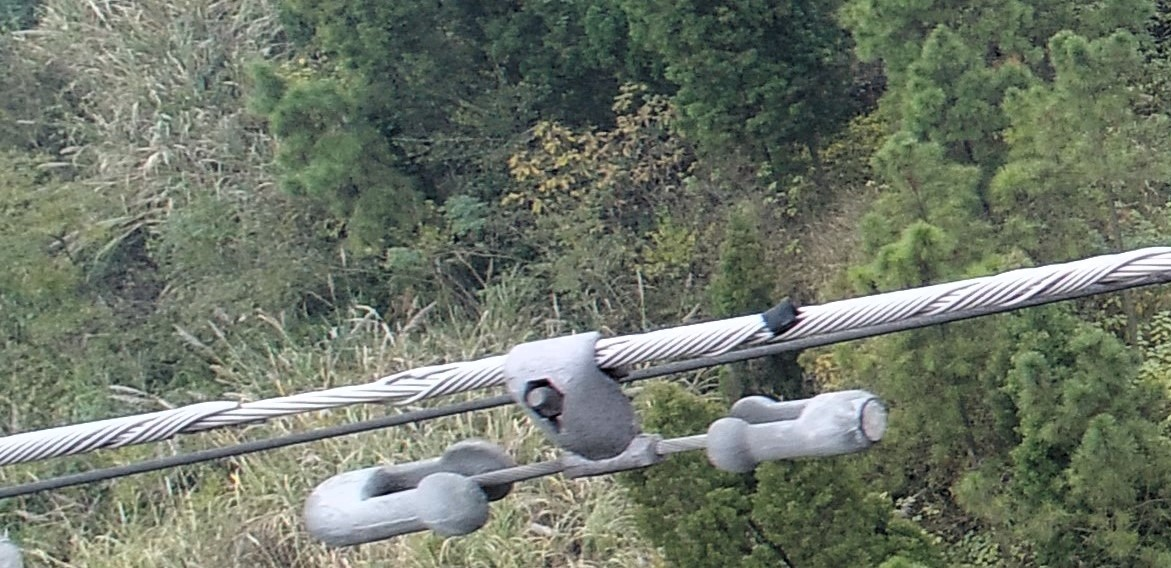Shockproof hammer: (288, 290, 897, 550)
